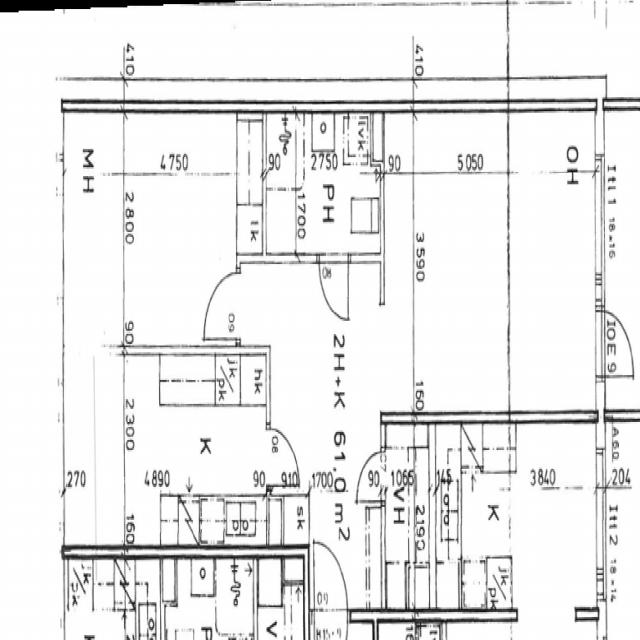door: (314, 543, 347, 623), (596, 312, 636, 375), (202, 272, 240, 338), (318, 254, 348, 323), (266, 430, 298, 486), (357, 453, 385, 500), (314, 610, 347, 640)
